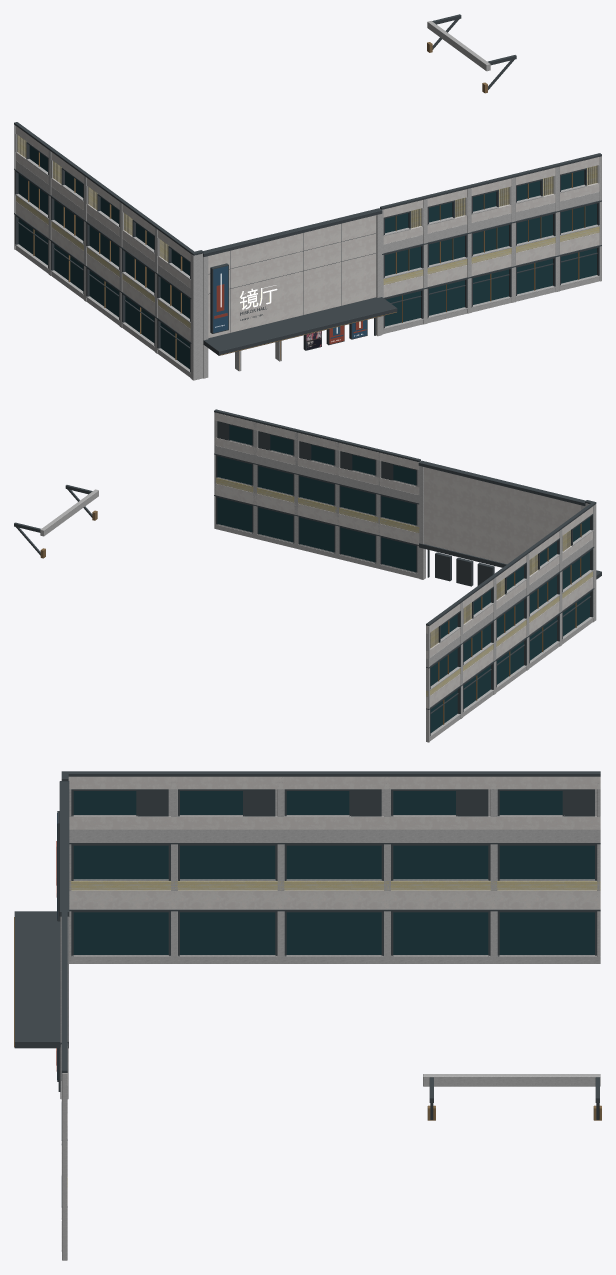
File: v15-mirror-hall-facade.glb
3 renders of one model, top to bottom at view 1: azimuth 30°, elevation 25°; view 2: azimuth 150°, elevation 25°; view 3: azimuth 270°, elevation 25°, orthographic. The views are drawn at different scales.
Visible parts, largest first — view 1: V15_MirrorHall_Facade; view 2: V15_MirrorHall_Facade; view 3: V15_MirrorHall_Facade.
Part boxes in pixels (left/top/right/bottom): V15_MirrorHall_Facade: left=14, top=14, right=601, bottom=380; V15_MirrorHall_Facade: left=14, top=409, right=601, bottom=742; V15_MirrorHall_Facade: left=14, top=771, right=601, bottom=1260.
Size of the model in its own units: 43.5 by 11.83 by 33.11.
Materials: 10 (4 with a texture image).
